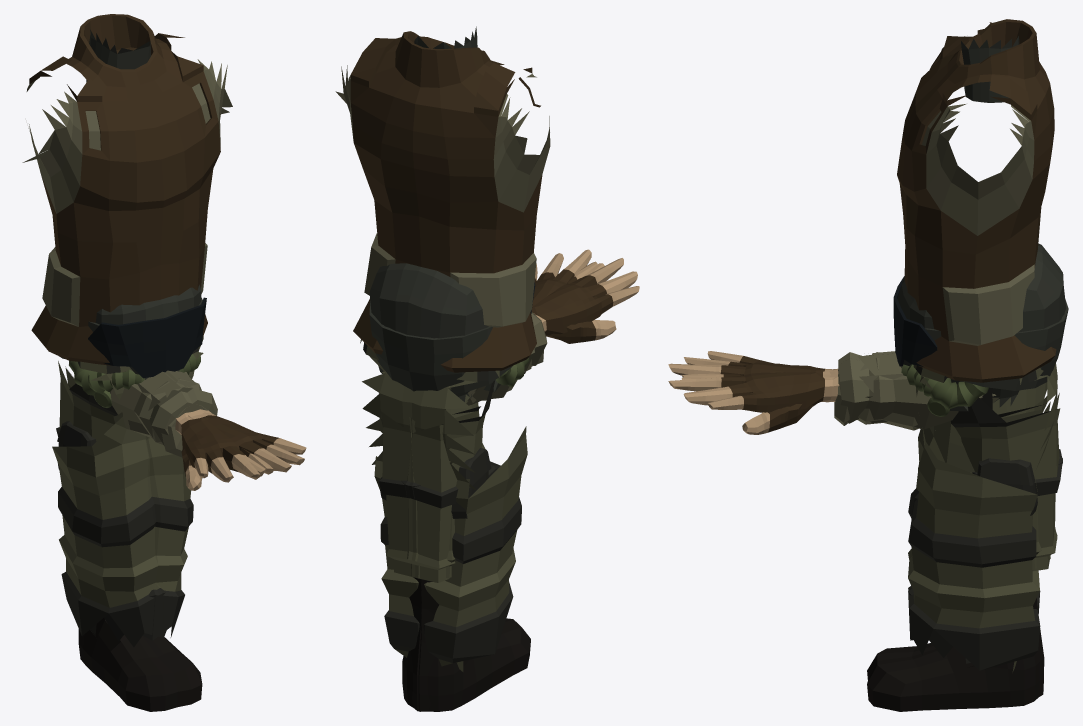
File: soldier_mask.glb
3 renders of one model, left to right at view 1: azimuth 30°, elevation 25°; view 2: azimuth 150°, elevation 25°; view 3: azimuth 270°, elevation 25°, orthographic. The views are drawn at different scales.
Visible parts, largest first — view 1: torso, thighL, head, shinR, thighR, foreR, foreL, shinL, upperR; view 2: torso, thighL, head, shinR, shinL, foreR, thighR, foreL; view 3: torso, thighR, shinL, foreL, head, shinR, foreR, thighL, upperL.
Boxes of the visible parts, <box> form: torso: <box>22,14,232,415</box>; thighL: <box>52,410,166,647</box>; head: <box>59,284,206,407</box>; shinR: <box>57,366,177,711</box>; thighR: <box>90,436,193,641</box>; foreR: <box>110,381,275,482</box>; foreL: <box>128,372,306,490</box>; shinL: <box>56,361,202,707</box>; upperR: <box>137,371,193,417</box>; torso: <box>335,26,550,489</box>; thighL: <box>423,388,527,666</box>; head: <box>369,263,535,401</box>; shinR: <box>378,406,530,711</box>; shinL: <box>380,380,495,711</box>; foreR: <box>466,258,639,405</box>; thighR: <box>374,371,500,671</box>; foreL: <box>468,249,616,402</box>; torso: <box>897,19,1057,468</box>; thighR: <box>908,427,1040,670</box>; shinL: <box>867,388,1062,711</box>; foreL: <box>668,358,996,429</box>; head: <box>893,243,1068,416</box>; shinR: <box>867,381,1062,696</box>; foreR: <box>668,351,999,434</box>; thighL: <box>908,382,1049,672</box>; upperL: <box>857,353,903,397</box>.
Size of the model in its own units: 0.3766 by 1.1 by 0.5987.
